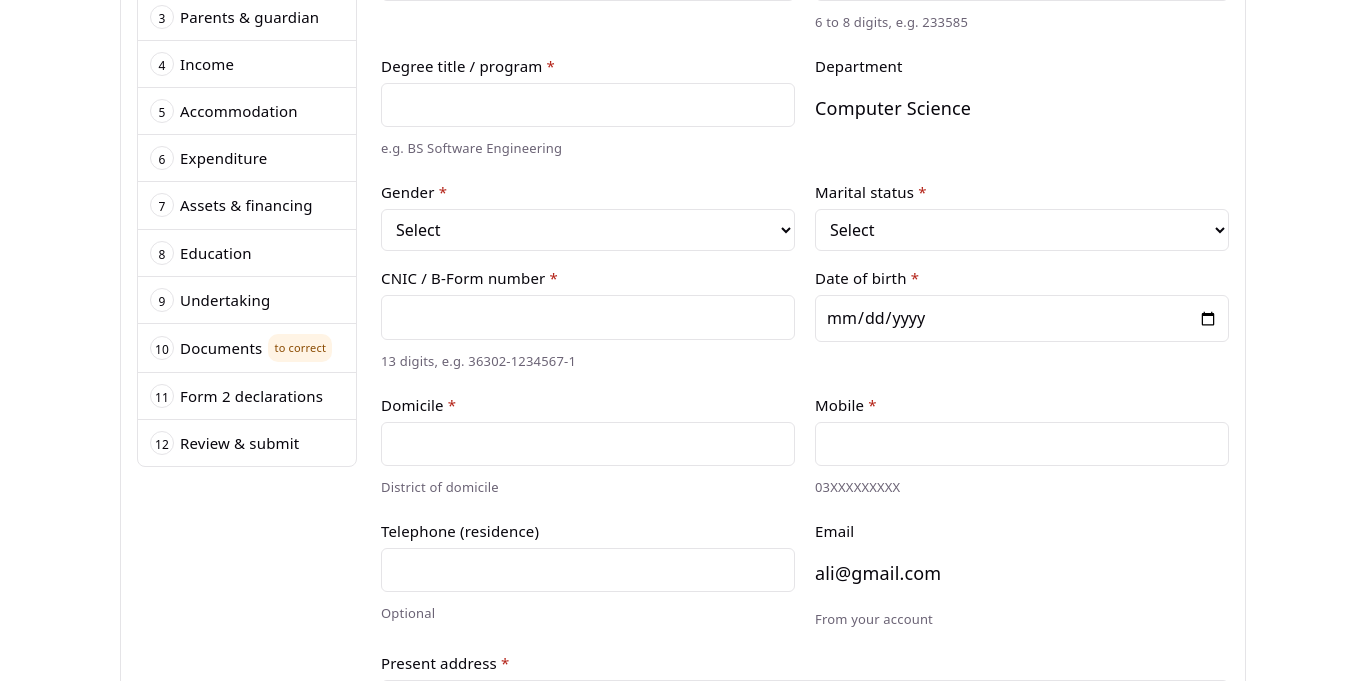
it: the flagged step can be corrected and saved
This screenshot has width=1366, height=681.
(page scrolled)
Type "36302-1234567-1" into the field labelled "CNIC / B-Form number *" at (588, 318), box [381,296,795,340]
(page scrolled)
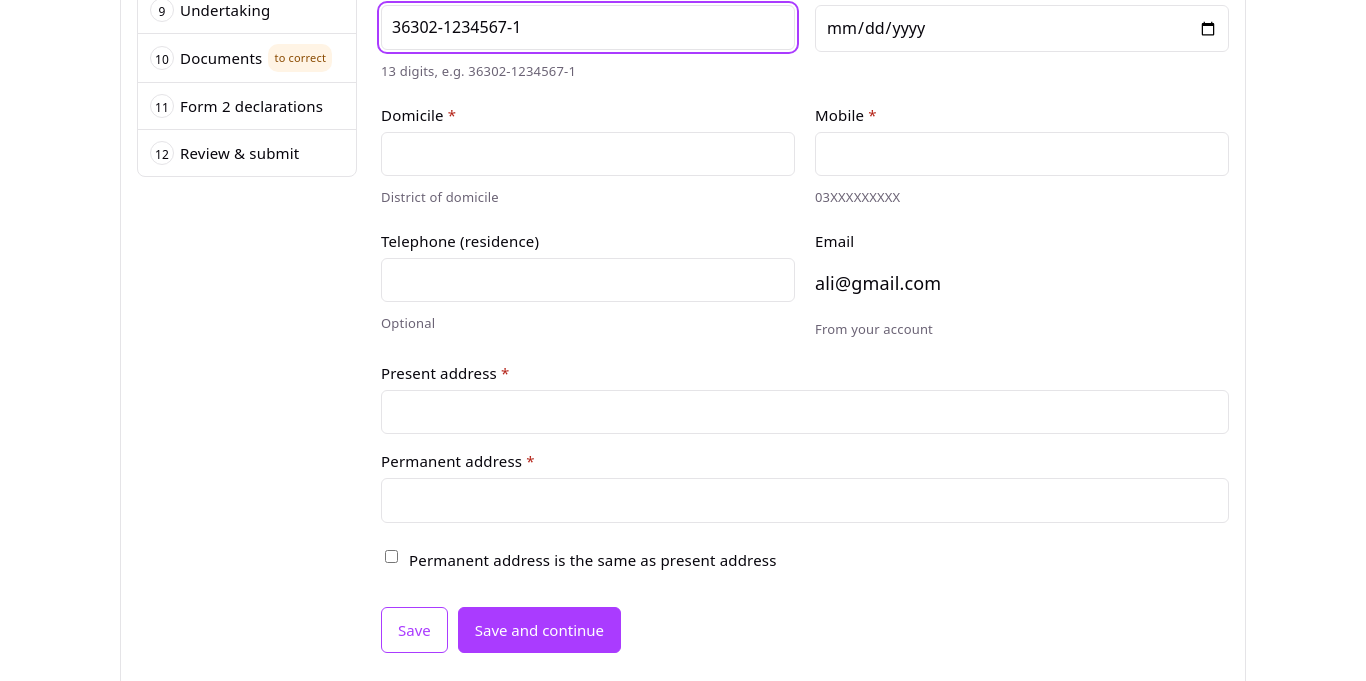
Click the button "Save" at (414, 630), box [381,607,448,653]
(page scrolled)
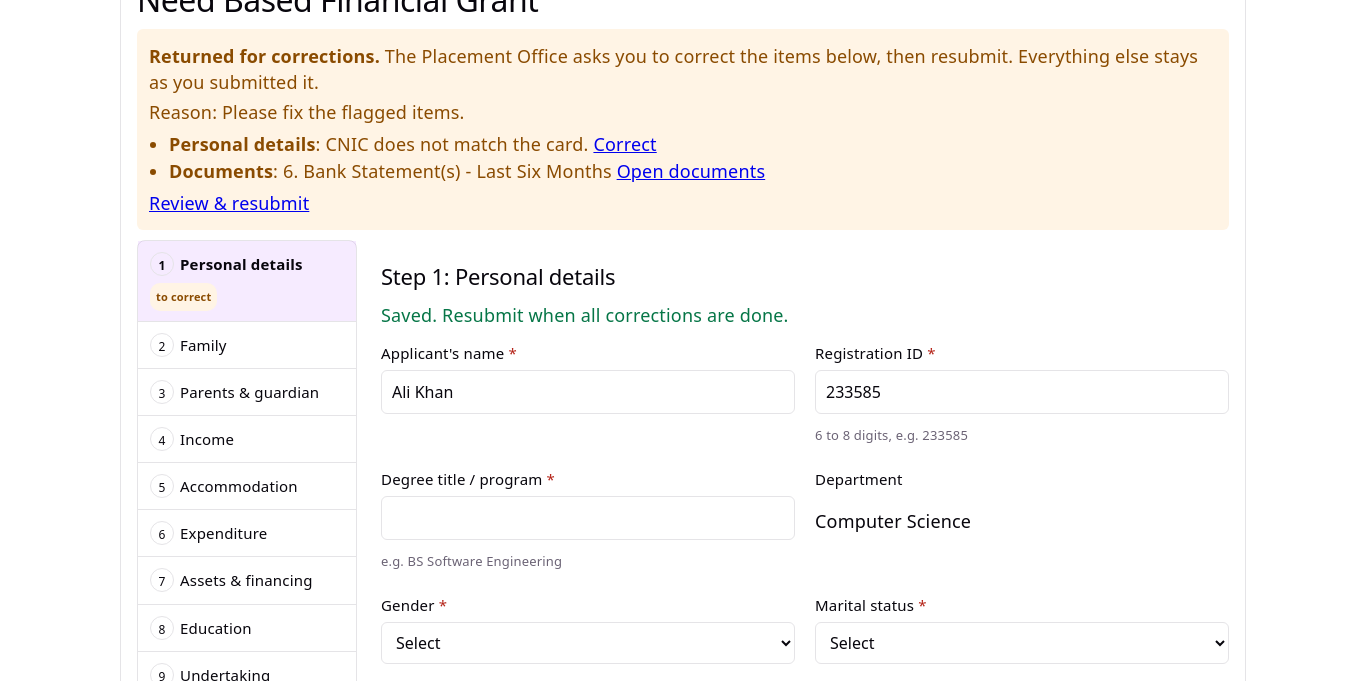
Check: the message shows "Resubmit when all corrections are done.", box [381,303,789,327]
